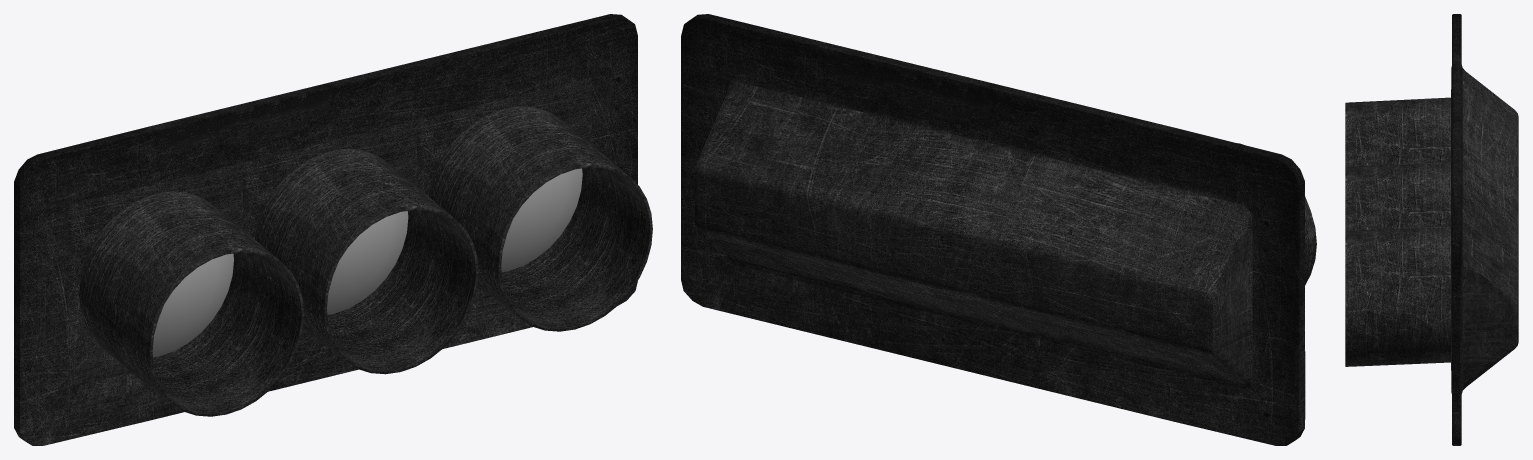
The model's file is TrafficSignalHorizontalFullConeBlack3.fbx.
3 renders of one model, left to right at view 1: azimuth 30°, elevation 25°; view 2: azimuth 150°, elevation 25°; view 3: azimuth 270°, elevation 25°, orthographic. The views are drawn at different scales.
Parts seen in each view (by area): view 1: Casing, SignalLight1, SignalLight0, SignalLight2; view 2: Casing; view 3: Casing.
Part boxes in pixels (bbox=[...]): Casing: bbox=[14, 14, 652, 445]; SignalLight1: bbox=[327, 211, 408, 314]; SignalLight0: bbox=[152, 253, 233, 357]; SignalLight2: bbox=[501, 168, 582, 271]; Casing: bbox=[681, 14, 1316, 445]; Casing: bbox=[1345, 14, 1518, 445].
Size of the model in its own units: 1.47 by 0.6568 by 0.473.
